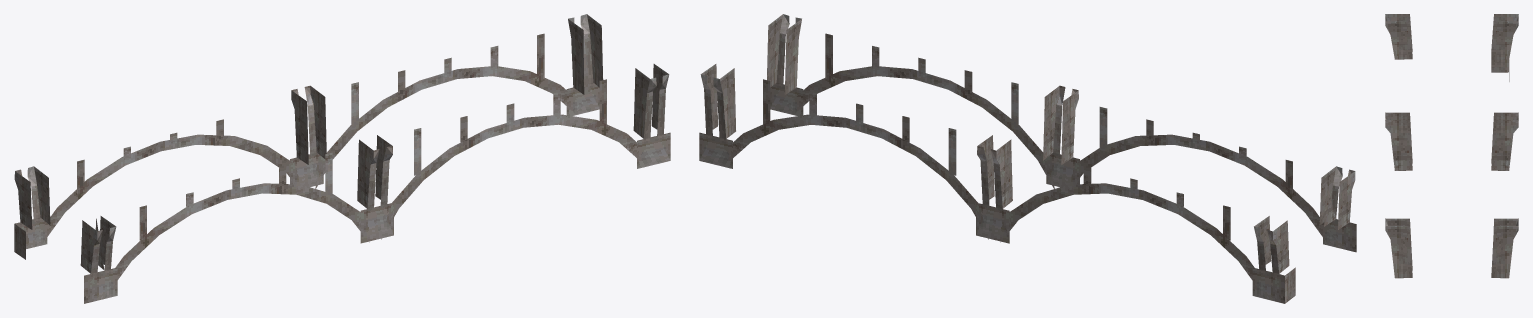
File: lodstormbrid_las2.obj
3 renders of one model, left to right at view 1: azimuth 30°, elevation 25°; view 2: azimuth 150°, elevation 25°; view 3: azimuth 270°, elevation 25°, orthographic. The views are drawn at different scales.
Visible parts, largest first — view 1: LODstormbrid_las2; view 2: LODstormbrid_las2; view 3: LODstormbrid_las2.
Part boxes in pixels (left/top/right/bottom): LODstormbrid_las2: left=14, top=14, right=670, bottom=303; LODstormbrid_las2: left=699, top=14, right=1356, bottom=303; LODstormbrid_las2: left=1385, top=14, right=1518, bottom=278.
Size of the model in its own units: 78.5 by 13.29 by 19.12.
Materials: 1 (1 with a texture image).
